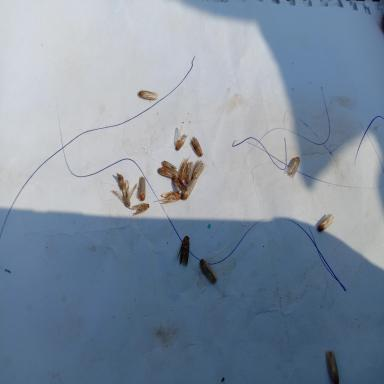pbw: (199, 258, 218, 285), (325, 350, 339, 384), (176, 235, 190, 267), (152, 190, 182, 204), (182, 178, 197, 200), (317, 213, 334, 232), (176, 124, 188, 150), (171, 176, 188, 194), (191, 160, 206, 180), (189, 136, 203, 157), (131, 203, 149, 219), (287, 156, 300, 178), (179, 156, 190, 181), (138, 90, 159, 102), (136, 176, 146, 200), (158, 167, 179, 178), (186, 161, 195, 184), (162, 160, 177, 171)
